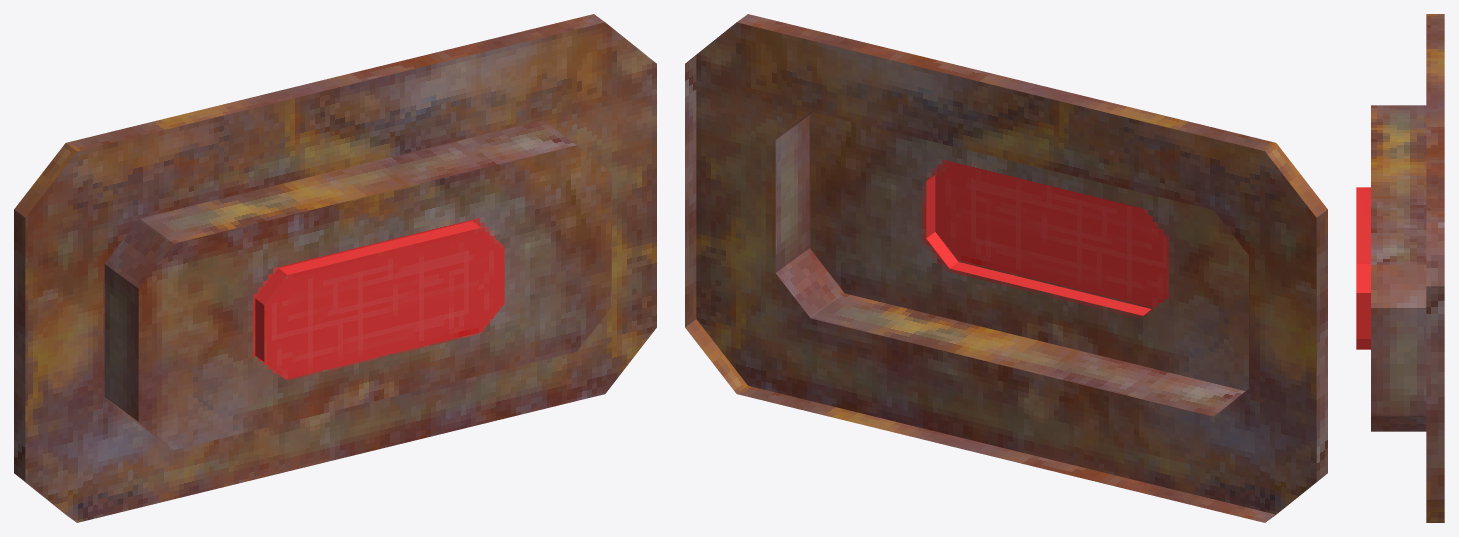
The model's file is switchIsOff.glb.
The picture shows the model from 3 angles, left to right: view 1: azimuth 30°, elevation 25°; view 2: azimuth 150°, elevation 25°; view 3: azimuth 270°, elevation 25°; orthographic projection. The views are drawn at different scales.
Visible parts, largest first — view 1: Cube.003; view 2: Cube.003; view 3: Cube.003.
Boxes of the visible parts, box(x1,y1,x2,y2) form: Cube.003: box(14, 14, 656, 522); Cube.003: box(685, 14, 1327, 522); Cube.003: box(1356, 14, 1444, 522).
Size of the model in its own units: 0.8 by 0.45 by 0.12.
1 material, 1 textured.
